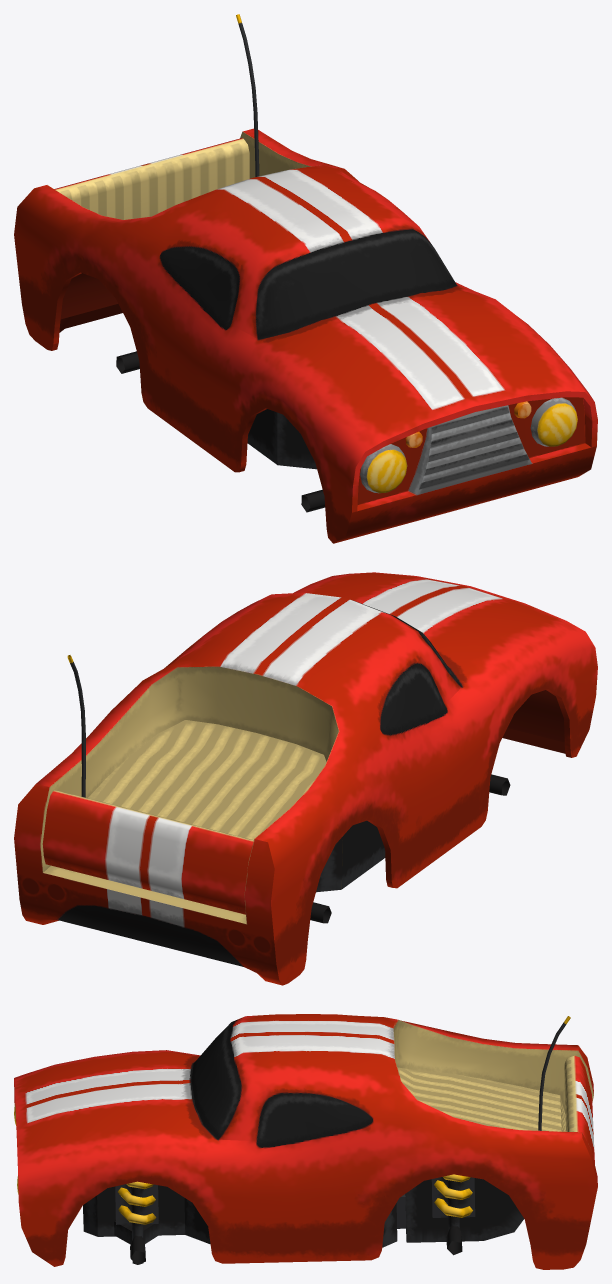
File: RC_Car_Model.fbx
3 views of the same model, one above another, from view 1: azimuth 30°, elevation 25°; view 2: azimuth 150°, elevation 25°; view 3: azimuth 270°, elevation 25° (orthographic). The views are drawn at different scales.
Visible parts, largest first — view 1: RC_Car_Model, RC_Back; view 2: RC_Car_Model, RC_Back; view 3: RC_Car_Model, RC_Back.
Part boxes in pixels (x1=…): RC_Car_Model: x1=14, y1=14, x2=597, y2=543; RC_Back: x1=54, y1=138, x2=249, y2=219; RC_Car_Model: x1=14, y1=572, x2=597, y2=985; RC_Back: x1=42, y1=790, x2=253, y2=914; RC_Car_Model: x1=14, y1=1014, x2=597, y2=1269; RC_Back: x1=564, y1=1055, x2=594, y2=1163.
Size of the model in its own units: 286 by 635 by 307.
